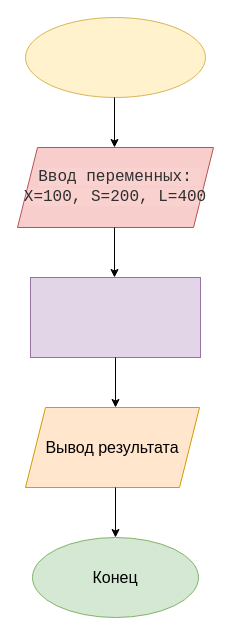
This 231x635 diagram has some shape labels left out. The shapes that lost their labels are listed below. From the top down, each one's centre as x and y in pixels, then its label:
At point (115, 57): "Начало".
At point (115, 317): "Вычисление: L_meters; length; total_cost;".
